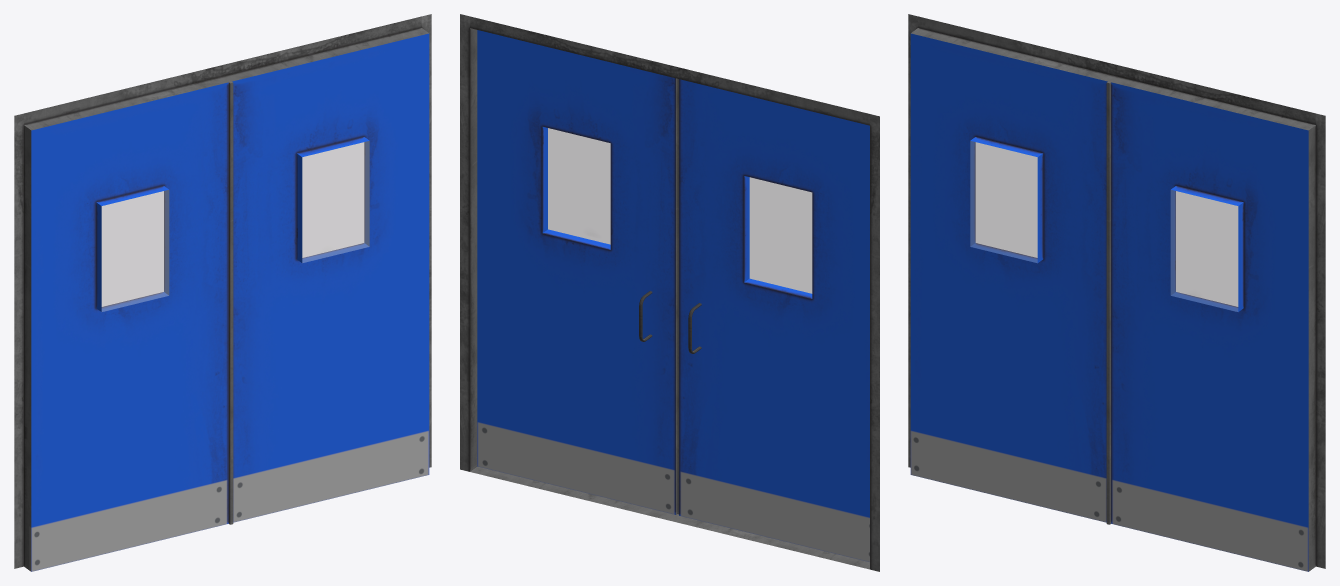
Rendered from double_doors_opt.glb.
3 views of the same model, side by side, from view 1: azimuth 30°, elevation 25°; view 2: azimuth 150°, elevation 25°; view 3: azimuth 330°, elevation 25° (orthographic).
Visible parts, largest first — view 1: defaultMaterial; view 2: defaultMaterial; view 3: defaultMaterial.
Part boxes in pixels (x1,y1,x2,y2): defaultMaterial: (14, 14, 431, 571); defaultMaterial: (460, 14, 879, 571); defaultMaterial: (908, 14, 1325, 571).
Size of the model in its own units: 335 by 348 by 22.11.
Materials: 1 (1 with a texture image).
